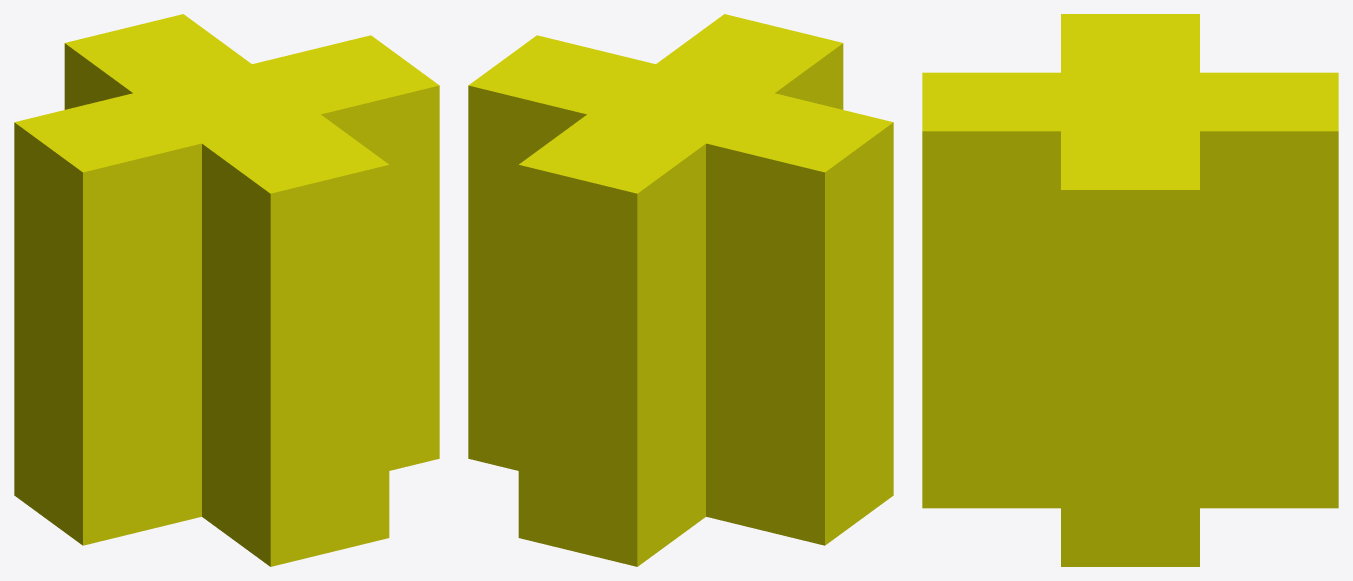
Rendered from wall_cross_3.fbx.
The picture shows the model from 3 angles, left to right: view 1: azimuth 30°, elevation 25°; view 2: azimuth 150°, elevation 25°; view 3: azimuth 270°, elevation 25°; orthographic projection.
Parts seen in each view (by area): view 1: wall_cross_3; view 2: wall_cross_3; view 3: wall_cross_3.
Part boxes in pixels (x1=…): wall_cross_3: x1=14, y1=14, x2=439, y2=566; wall_cross_3: x1=468, y1=14, x2=893, y2=566; wall_cross_3: x1=922, y1=14, x2=1338, y2=566.
Size of the model in its own units: 3 by 3 by 3.
